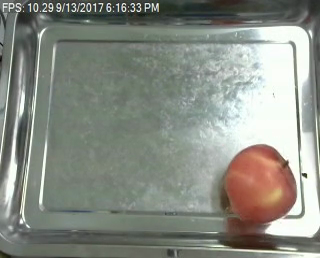Apple: (222, 143, 297, 223)
